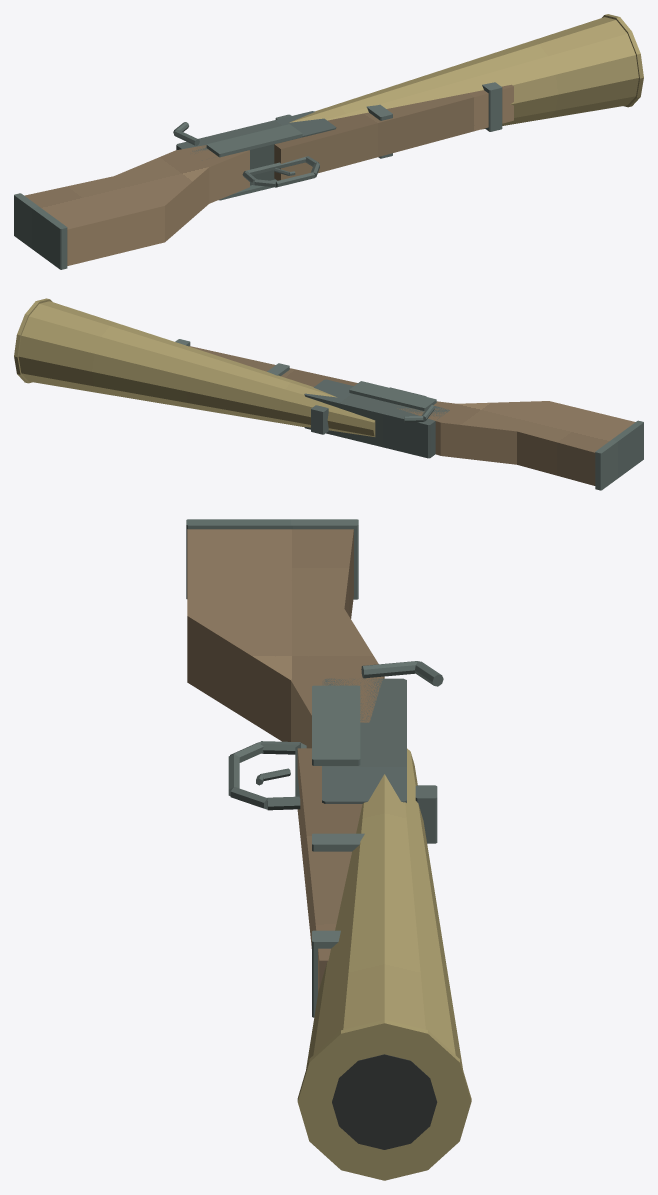
Rendered from weapon-blunderbuss.glb.
3 renders of one model, top to bottom at view 1: azimuth 30°, elevation 25°; view 2: azimuth 150°, elevation 25°; view 3: azimuth 270°, elevation 25°, orthographic. The views are drawn at different scales.
Visible parts, largest first — view 1: weapon-blunderbuss/long-barrel, weapon-blunderbuss/shaped-solid-butt, weapon-blunderbuss/tapered-full-depth-forend, weapon-blunderbuss/butt-end-plate, weapon-blunderbuss/central-receiver, weapon-blunderbuss/external-lockplate-left, weapon-blunderbuss/stock-band-1, weapon-blunderbuss/long-barrel-end-rim; view 2: weapon-blunderbuss/long-barrel, weapon-blunderbuss/shaped-solid-butt, weapon-blunderbuss/central-receiver, weapon-blunderbuss/butt-end-plate, weapon-blunderbuss/external-lockplate-left, weapon-blunderbuss/tapered-full-depth-forend, weapon-blunderbuss/long-barrel-end-rim, weapon-blunderbuss/rear-sight; view 3: weapon-blunderbuss/shaped-solid-butt, weapon-blunderbuss/long-barrel, weapon-blunderbuss/long-barrel-end-rim, weapon-blunderbuss/long-barrel-dark-end, weapon-blunderbuss/tapered-full-depth-forend, weapon-blunderbuss/central-receiver, weapon-blunderbuss/external-lockplate-left, weapon-blunderbuss/butt-end-plate, weapon-blunderbuss/rear-sight, weapon-blunderbuss/stock-band-0.
Part boxes in pixels (left/top/right/bottom): weapon-blunderbuss/long-barrel: left=289, top=17, right=638, bottom=129; weapon-blunderbuss/shaped-solid-butt: left=24, top=145, right=249, bottom=265; weapon-blunderbuss/tapered-full-depth-forend: left=274, top=84, right=513, bottom=180; weapon-blunderbuss/butt-end-plate: left=14, top=193, right=67, bottom=269; weapon-blunderbuss/central-receiver: left=176, top=111, right=336, bottom=185; weapon-blunderbuss/external-lockplate-left: left=206, top=124, right=302, bottom=157; weapon-blunderbuss/stock-band-1: left=482, top=82, right=502, bottom=131; weapon-blunderbuss/long-barrel-end-rim: left=602, top=14, right=643, bottom=107; weapon-blunderbuss/long-barrel: left=18, top=301, right=375, bottom=436; weapon-blunderbuss/shaped-solid-butt: left=397, top=401, right=635, bottom=485; weapon-blunderbuss/central-receiver: left=304, top=379, right=449, bottom=458; weapon-blunderbuss/butt-end-plate: left=595, top=420, right=643, bottom=490; weapon-blunderbuss/external-lockplate-left: left=349, top=381, right=436, bottom=411; weapon-blunderbuss/tapered-full-depth-forend: left=189, top=346, right=357, bottom=386; weapon-blunderbuss/long-barrel-end-rim: left=14, top=298, right=52, bottom=383; weapon-blunderbuss/rear-sight: left=311, top=405, right=328, bottom=434; weapon-blunderbuss/shaped-solid-butt: left=187, top=529, right=384, bottom=748; weapon-blunderbuss/long-barrel: left=306, top=748, right=462, bottom=1069; weapon-blunderbuss/long-barrel-end-rim: left=297, top=1019, right=471, bottom=1180; weapon-blunderbuss/long-barrel-dark-end: left=332, top=1054, right=437, bottom=1149; weapon-blunderbuss/tapered-full-depth-forend: left=297, top=748, right=362, bottom=992; weapon-blunderbuss/central-receiver: left=322, top=678, right=406, bottom=803; weapon-blunderbuss/external-lockplate-left: left=312, top=685, right=360, bottom=765; weapon-blunderbuss/butt-end-plate: left=186, top=519, right=358, bottom=599; weapon-blunderbuss/rear-sight: left=415, top=785, right=437, bottom=843; weapon-blunderbuss/stock-band-0: left=312, top=833, right=364, bottom=851.
Bounding box in the file's own units: 0.773 × 0.104 × 0.1705.
4 materials, 4 textured.
